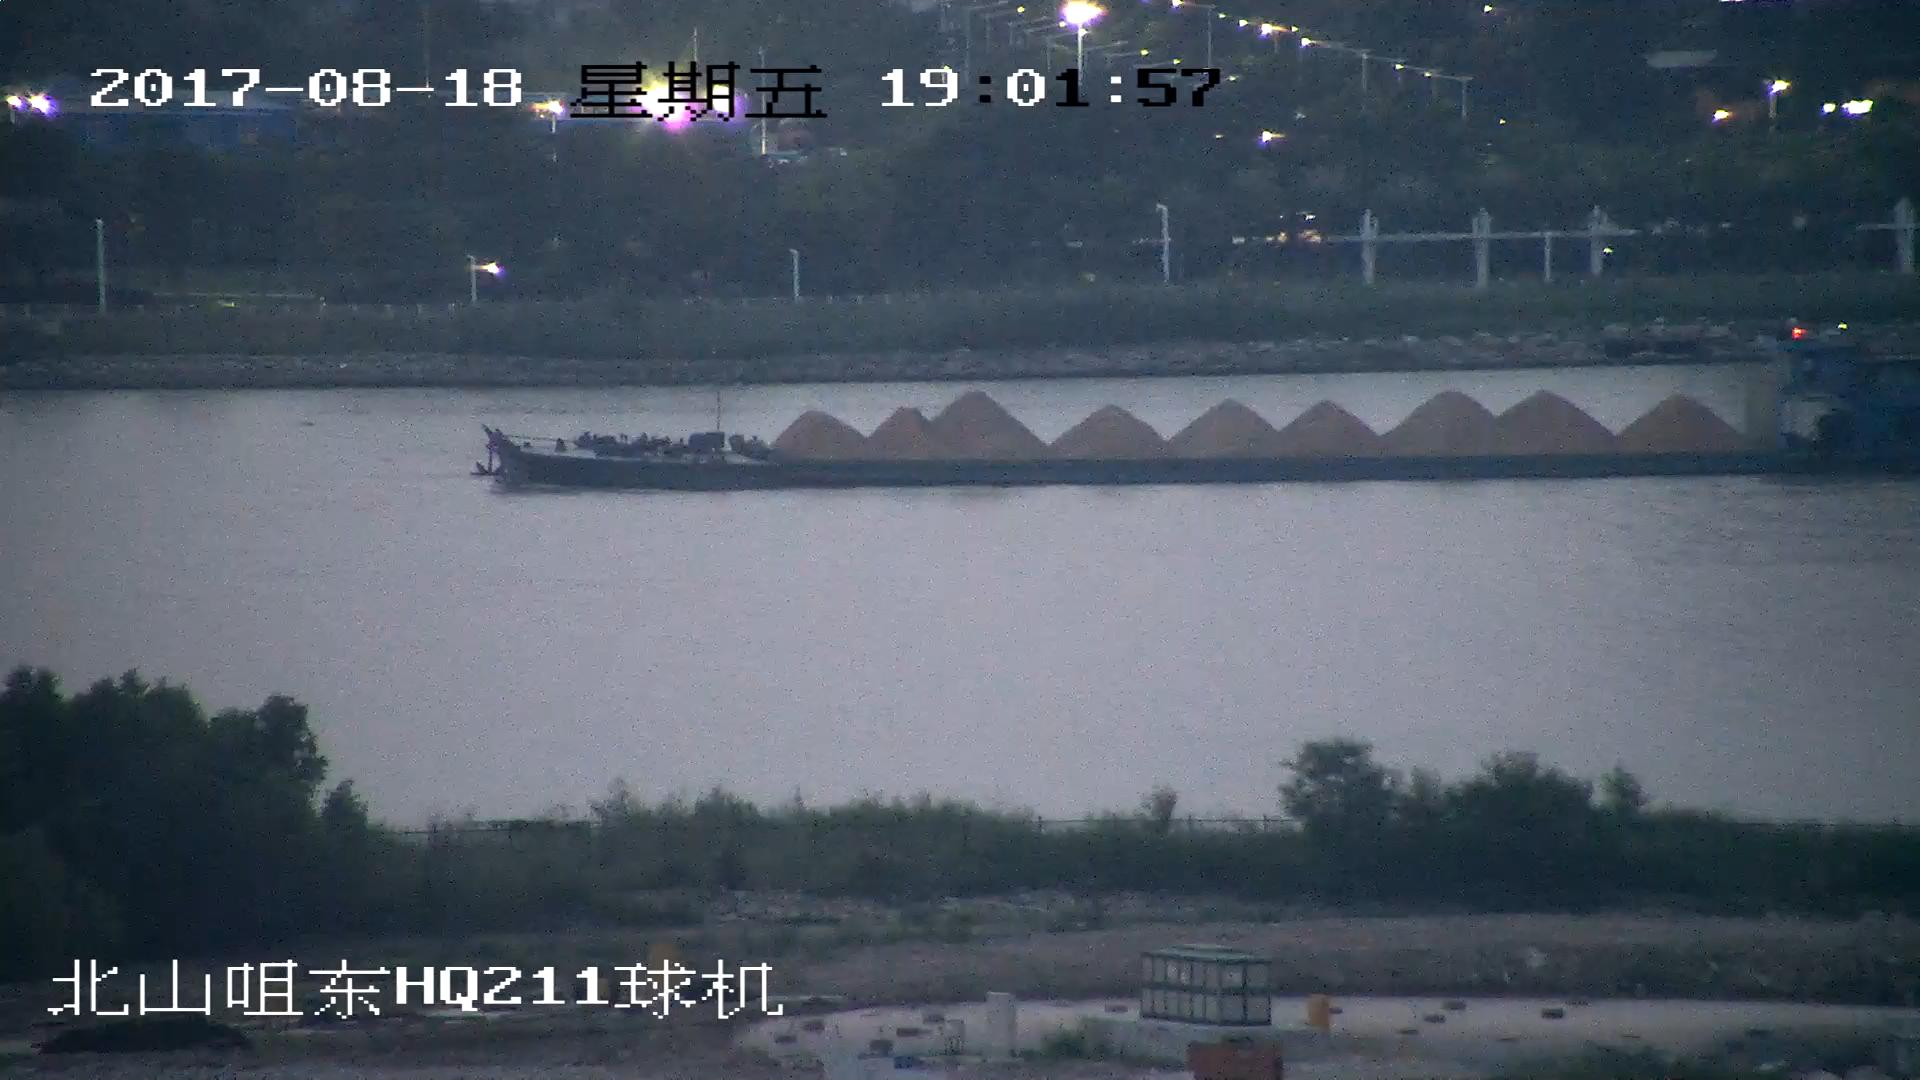ore carrier: (472, 330, 1920, 490)
